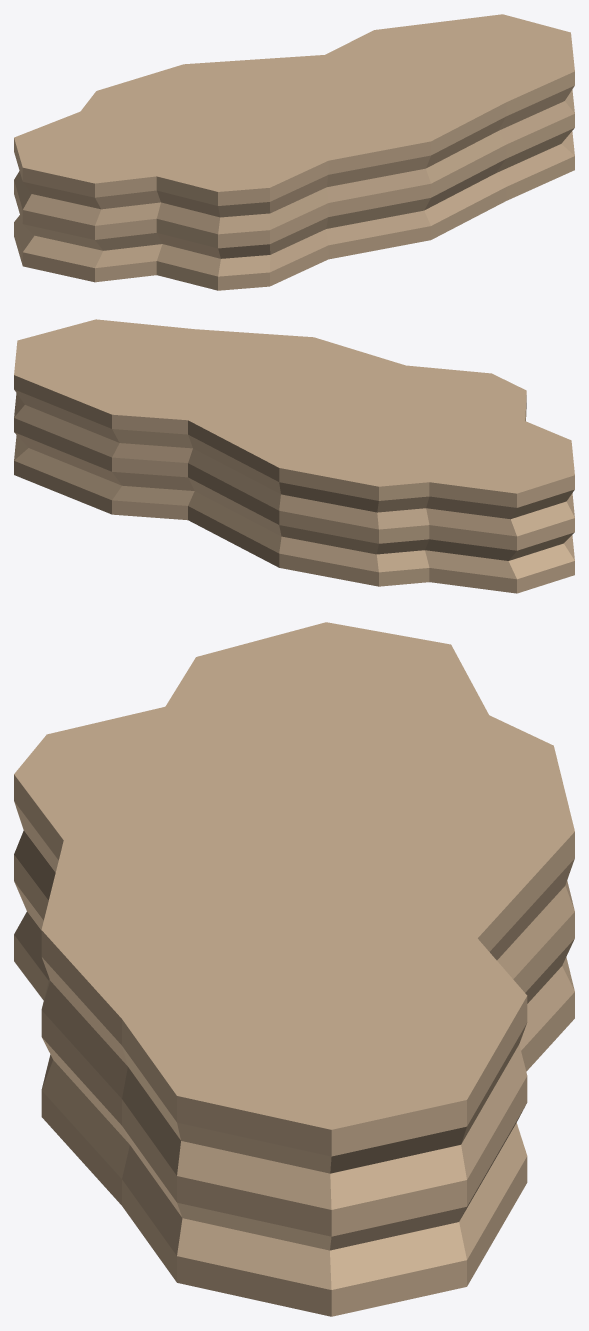
Rendered from flat_rock_big_01.fbx.
The picture shows the model from 3 angles, top to bottom: view 1: azimuth 30°, elevation 25°; view 2: azimuth 150°, elevation 25°; view 3: azimuth 270°, elevation 25°; orthographic projection. The views are drawn at different scales.
Visible parts, largest first — view 1: flat_rock_big_01; view 2: flat_rock_big_01; view 3: flat_rock_big_01.
Part boxes in pixels (x1,y1,x2,y2): flat_rock_big_01: [14, 14, 574, 290]; flat_rock_big_01: [14, 319, 574, 593]; flat_rock_big_01: [14, 622, 574, 1316].
Bounding box in the file's own units: 1378 × 237 × 643.
